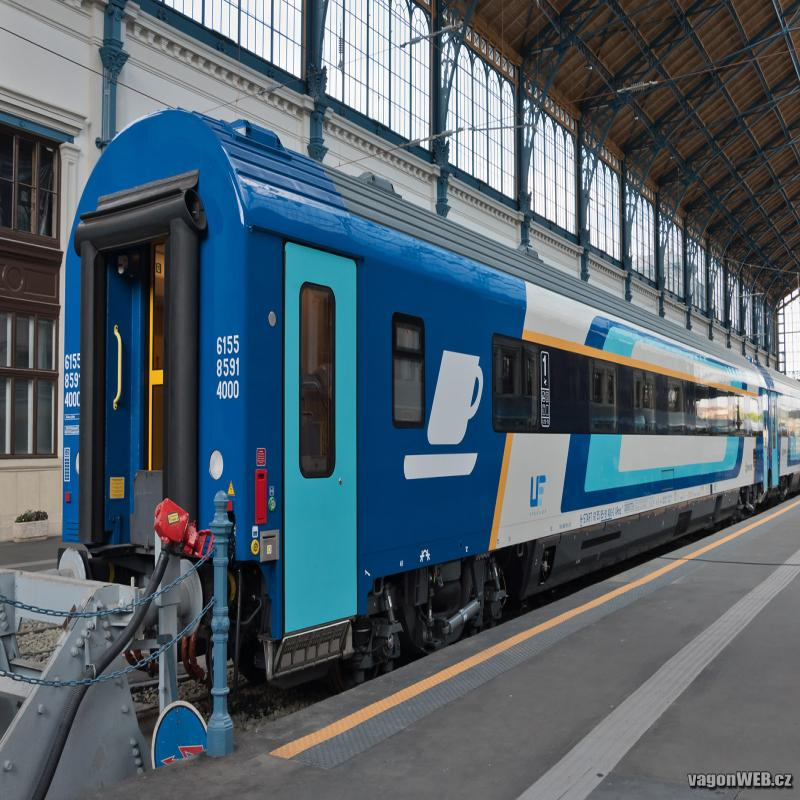train: (62, 109, 771, 724)
